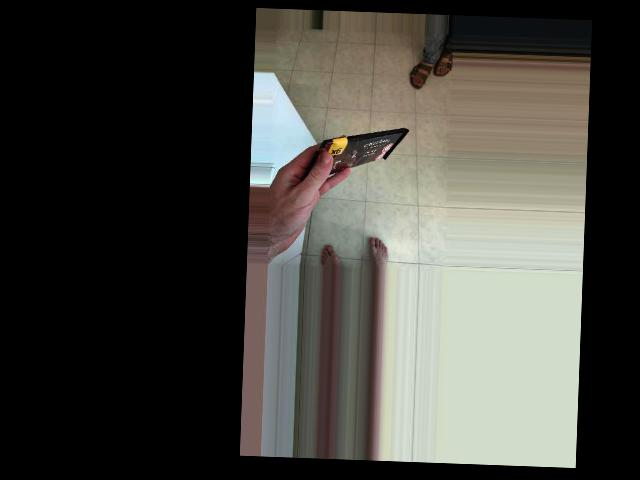chocolate: (363, 69, 427, 181)
